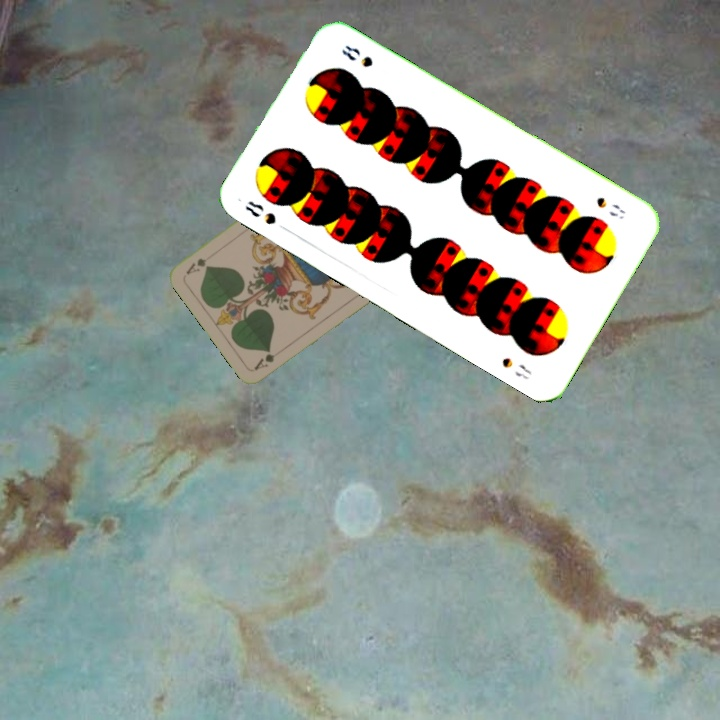GA: (250, 349, 277, 373)
S8: (241, 196, 279, 228), (592, 192, 628, 222)
